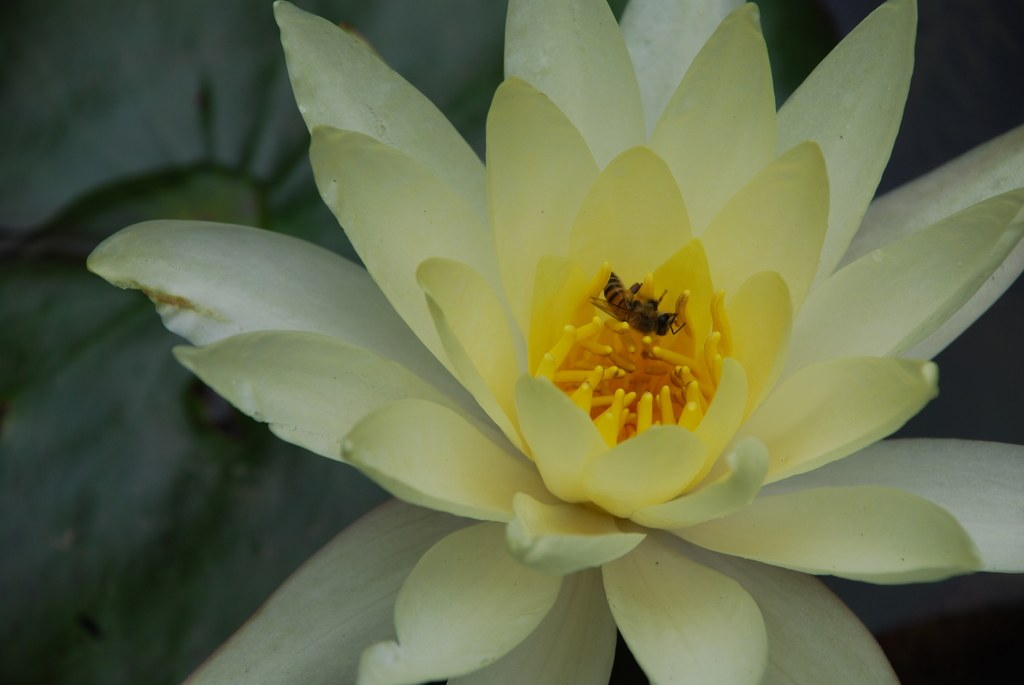bee: (596, 271, 687, 356)
insect: (138, 0, 1018, 669)
